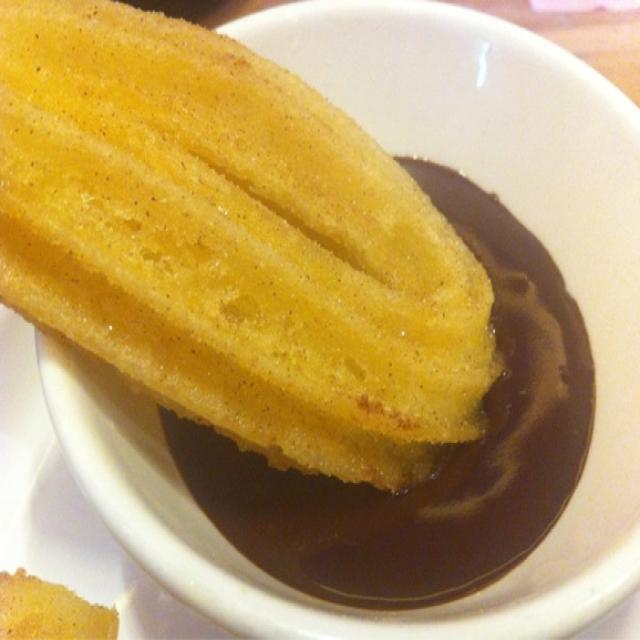炸货点心: (26, 26, 614, 584)
